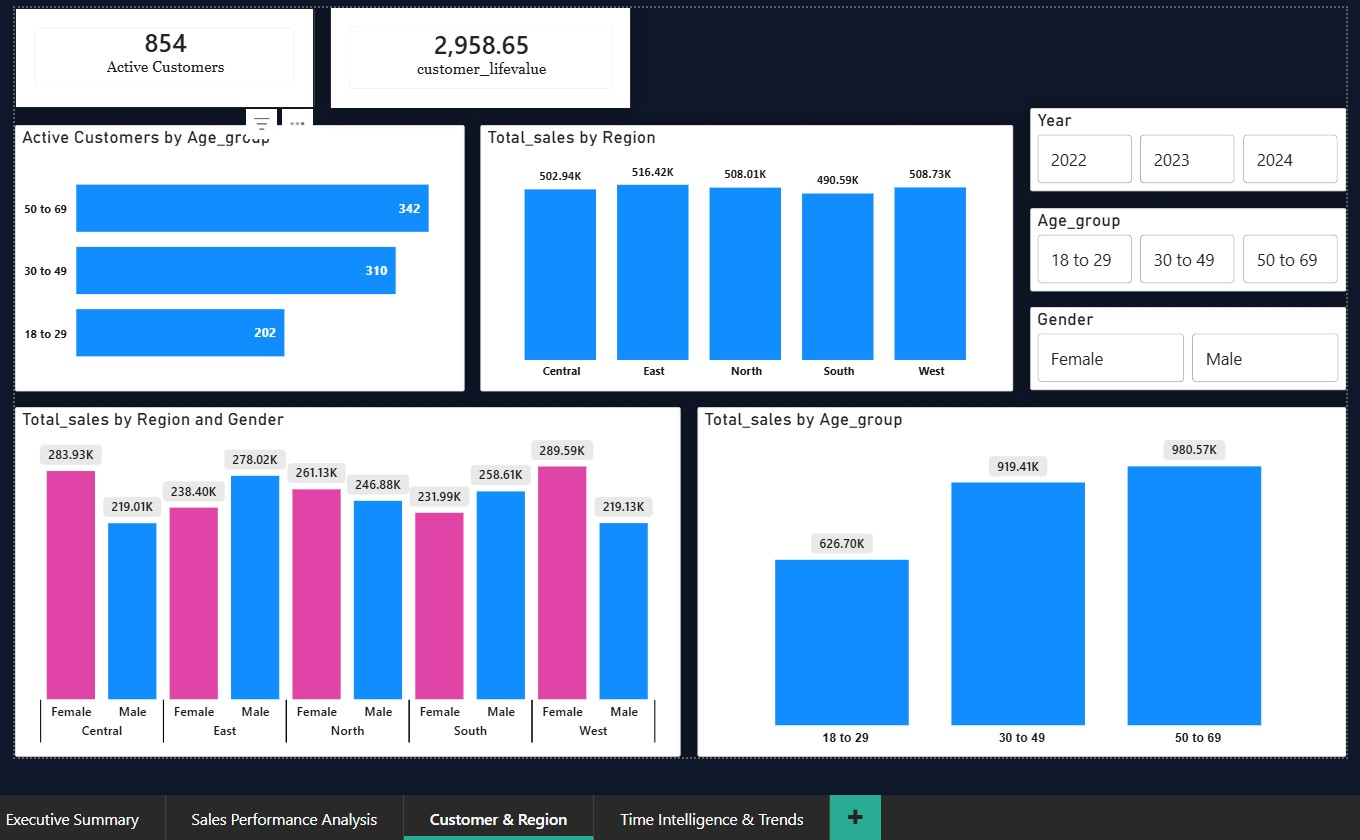

The page's visual inventory and layout, read from the dashboard file:
{"tool":"powerbi","page":{"name":"Customer & Region ","canvas":[1280,720],"ordinal":2},"visuals":[{"type":"columnChart","fields":{"Category":["Customers.Region","Customers.Gender"],"Y":["Orders.Total_sales"]},"box":[0,384,640,336],"z":0},{"type":"clusteredColumnChart","fields":{"Category":["Customers.Age_group","Customers.Gender"],"Y":["Orders.Total_sales"]},"box":[656,384,624,336],"z":1000},{"type":"clusteredBarChart","fields":{"Category":["Customers.Age_group"],"Y":["Customers.Active Customers"]},"box":[0,112,432,256],"z":2000},{"type":"cardVisual","fields":{"Data":["Customers.Active Customers"]},"box":[0,0,288,96],"z":3000},{"type":"advancedSlicerVisual","fields":{"Values":["Dim_date.Date.Variation.Date Hierarchy.Year"]},"box":[976,96,304,80],"z":4000},{"type":"advancedSlicerVisual","fields":{"Values":["Customers.Gender"]},"box":[976,288,304,80],"z":5000},{"type":"advancedSlicerVisual","fields":{"Values":["Customers.Age_group"]},"box":[976,192,304,80],"z":6000},{"type":"clusteredColumnChart","fields":{"Category":["Customers.Region"],"Y":["Orders.Total_sales"]},"box":[448,112,512,256],"z":7000},{"type":"cardVisual","fields":{"Data":["Customers.customer_lifevalue"]},"box":[304,0,288,96],"z":8000}]}

Visuals, with their boxes in screenshot pixels (x1, y1, x2, y2):
columnChart - Customers.Region x Customers.Gender: l=7, t=402, r=678, b=754
clusteredColumnChart - Customers.Age_group x Customers.Gender: l=694, t=402, r=1348, b=754
clusteredBarChart - Customers.Age_group x Customers.Active Customers: l=7, t=117, r=460, b=386
cardVisual - Customers.Active Customers: l=7, t=0, r=309, b=101
advancedSlicerVisual - Dim_date.Date.Variation.Date Hierarchy.Year: l=1030, t=101, r=1348, b=184
advancedSlicerVisual - Customers.Gender: l=1030, t=302, r=1348, b=386
advancedSlicerVisual - Customers.Age_group: l=1030, t=201, r=1348, b=285
clusteredColumnChart - Customers.Region x Orders.Total_sales: l=476, t=117, r=1013, b=386
cardVisual - Customers.customer_lifevalue: l=326, t=0, r=627, b=101
